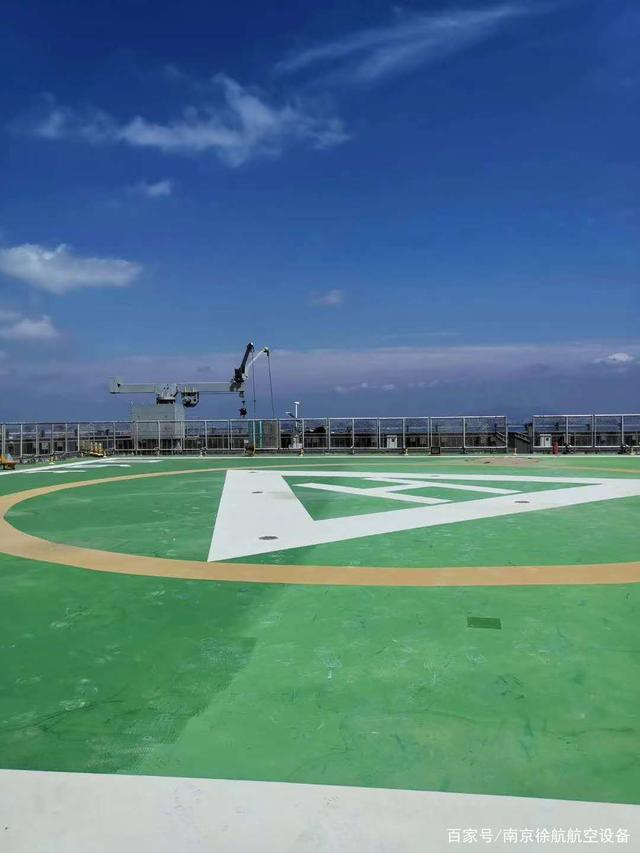H: (293, 475, 521, 505)
